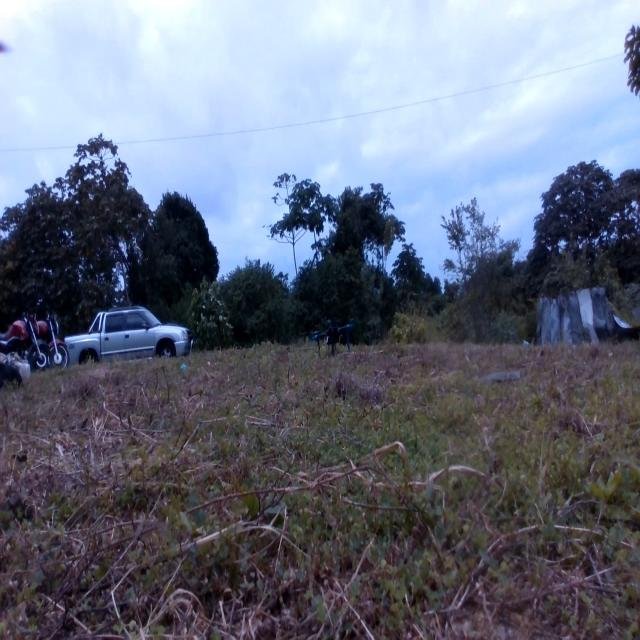-uav-: (308, 317, 357, 362)
